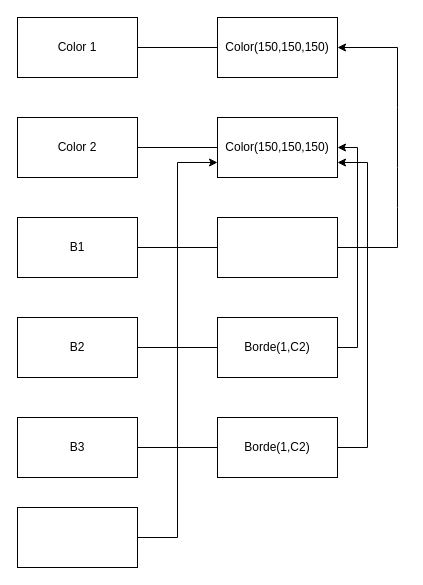
This 423x585 diagram has some shape labels left out. The centre of each missing label's shape, as x and y in pixels:
"B4" belongs at (77,537).
"Borde(1,C1)" belongs at (277,247).
